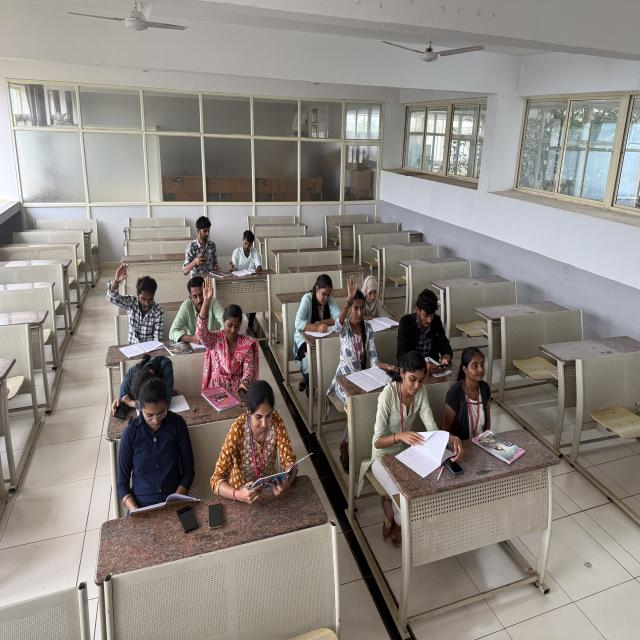Hand Rising: (198, 279, 276, 386), (103, 260, 169, 340), (330, 272, 379, 368)
Reading: (101, 384, 197, 512), (219, 392, 325, 505), (381, 367, 445, 468), (232, 222, 279, 290), (177, 284, 226, 349), (361, 271, 405, 337)
Sleeping: (108, 358, 196, 408)
Using Phone: (398, 292, 460, 368)
Writing: (288, 268, 346, 339)
